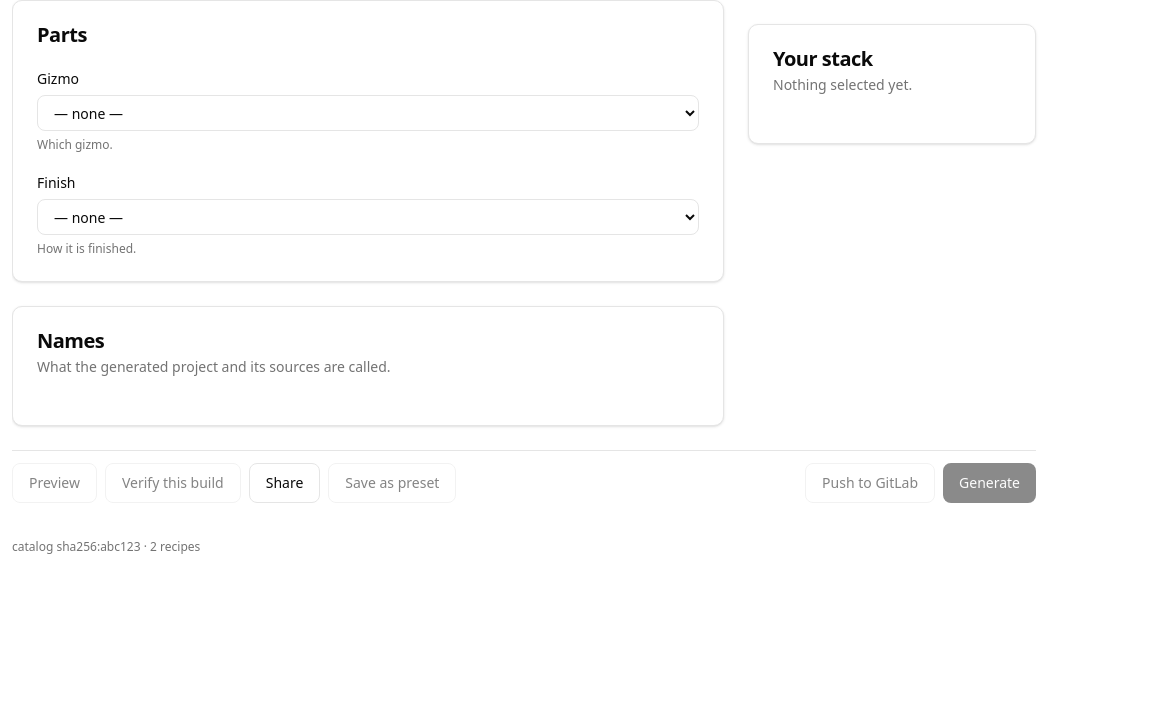
Test: verification badges › does not warn about a pairing the matrix built
Select "Brass" in the dropdown labelled "Gizmo" at (368, 113), box [37,95,699,131]
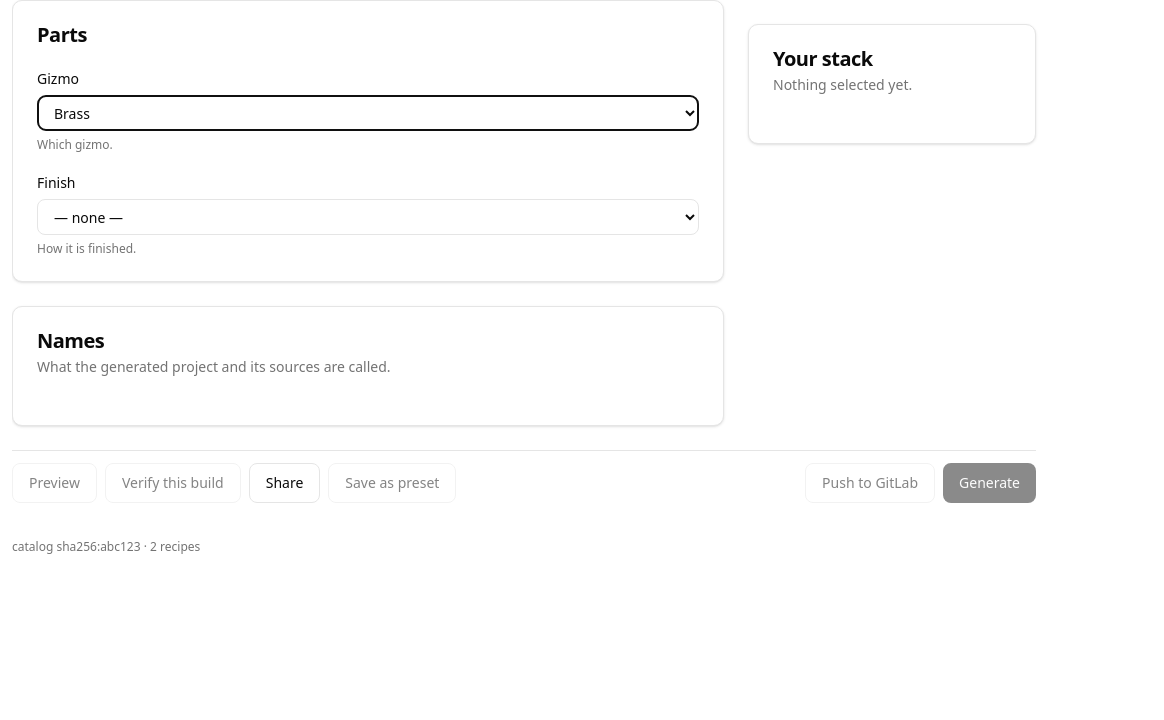
Select "Gloss" in the dropdown labelled "Finish" at (368, 217), box [37,199,699,235]
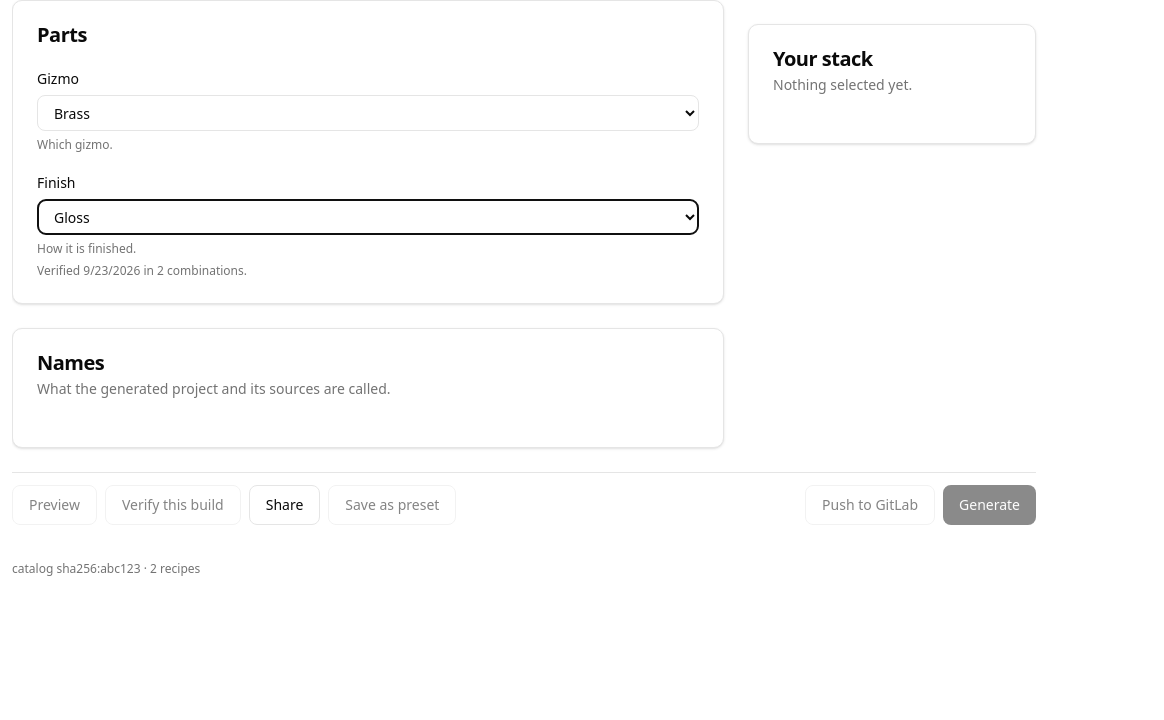
Expected: the text "Verified 9/23/2026 in 2 combinations." is shown, [37,262,247,279]
